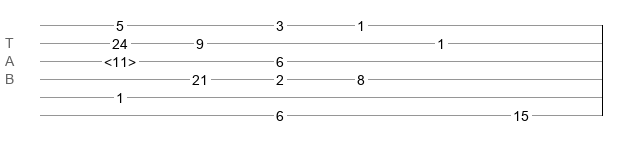1: (116, 90, 124, 100), (357, 18, 365, 28), (437, 36, 445, 46)
15: (513, 108, 529, 118)
2: (276, 72, 284, 82)
21: (192, 72, 208, 82)
24: (112, 36, 128, 46)
3: (276, 18, 284, 28)
5: (116, 18, 124, 28)
6: (276, 108, 284, 118), (276, 54, 284, 64)
8: (357, 72, 365, 82)
9: (196, 36, 204, 46)
harmonic: (104, 54, 136, 64)
